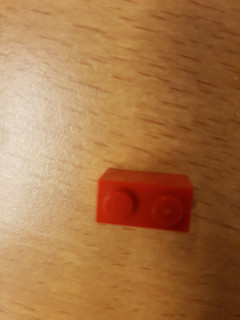1x2 red: (96, 167, 194, 234)
